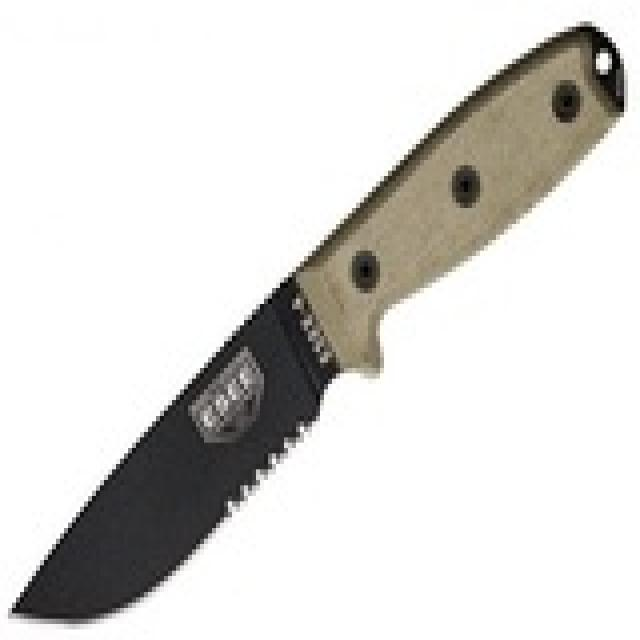Knife: (2, 19, 628, 635)
